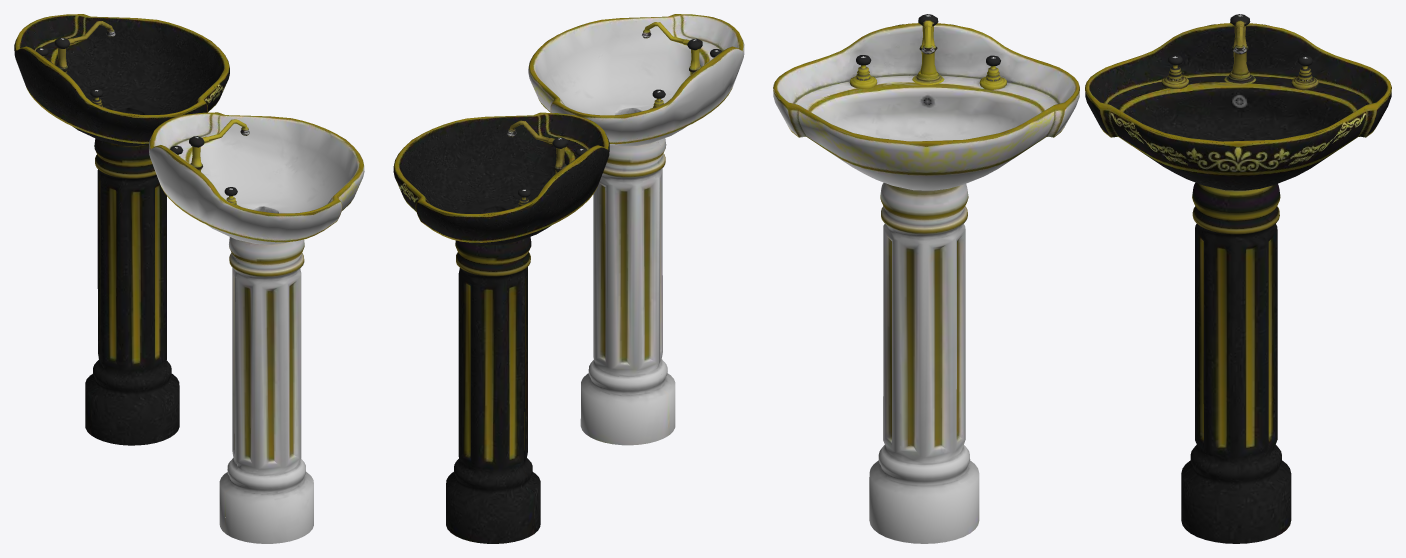
Rendered from bano_washbasin_model.glb.
3 renders of one model, left to right at view 1: azimuth 30°, elevation 25°; view 2: azimuth 150°, elevation 25°; view 3: azimuth 270°, elevation 25°, orthographic. The views are drawn at different scales.
Parts seen in each view (by area): view 1: Complete_Washbasin_black_Washbasin_texture_black_0; view 2: Complete_Washbasin_black_Washbasin_texture_black_0; view 3: Complete_Washbasin_black_Washbasin_texture_black_0.
Part boxes in pixels (<box>): Complete_Washbasin_black_Washbasin_texture_black_0: <box>14,14,364,543</box>; Complete_Washbasin_black_Washbasin_texture_black_0: <box>393,14,744,543</box>; Complete_Washbasin_black_Washbasin_texture_black_0: <box>773,14,1391,543</box>.
Size of the model in its own units: 0.4177 by 0.95 by 1.12.
2 materials, 2 textured.
